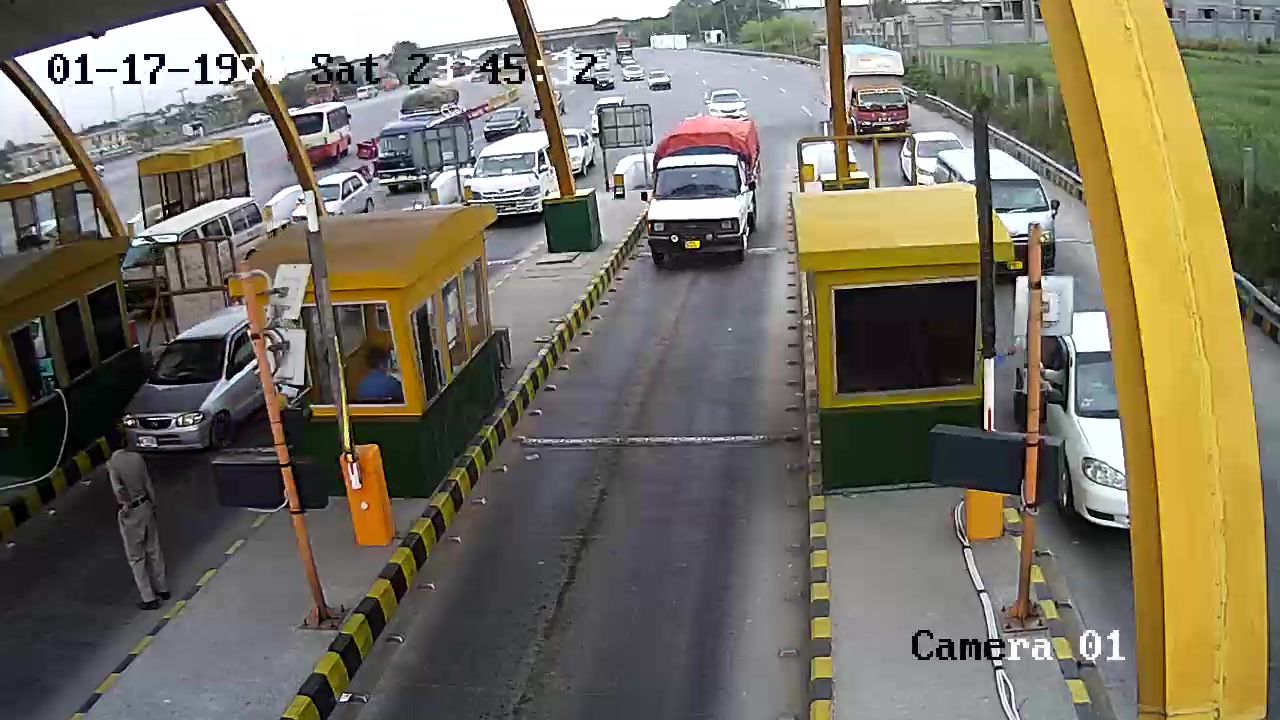F2: (639, 113, 772, 277)
